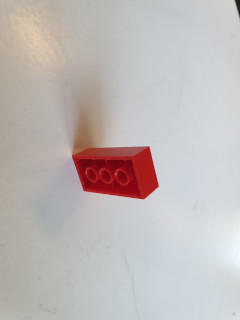2x4 red: (72, 146, 166, 200)
